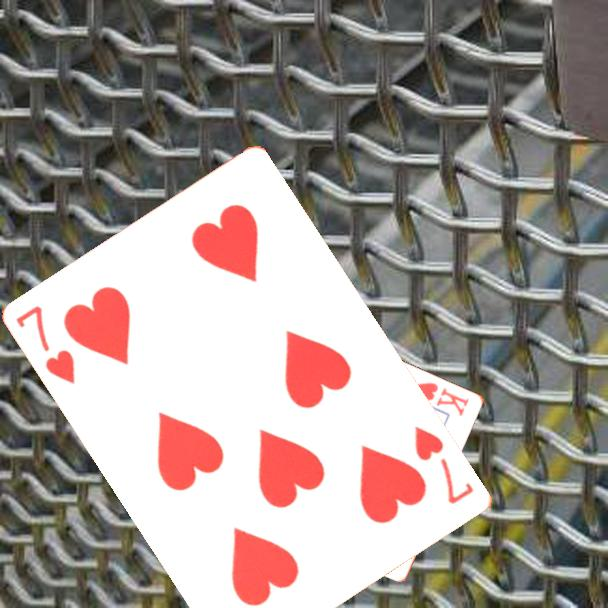h07: (411, 422, 478, 508), (13, 301, 79, 388)
h13: (412, 378, 472, 419)
